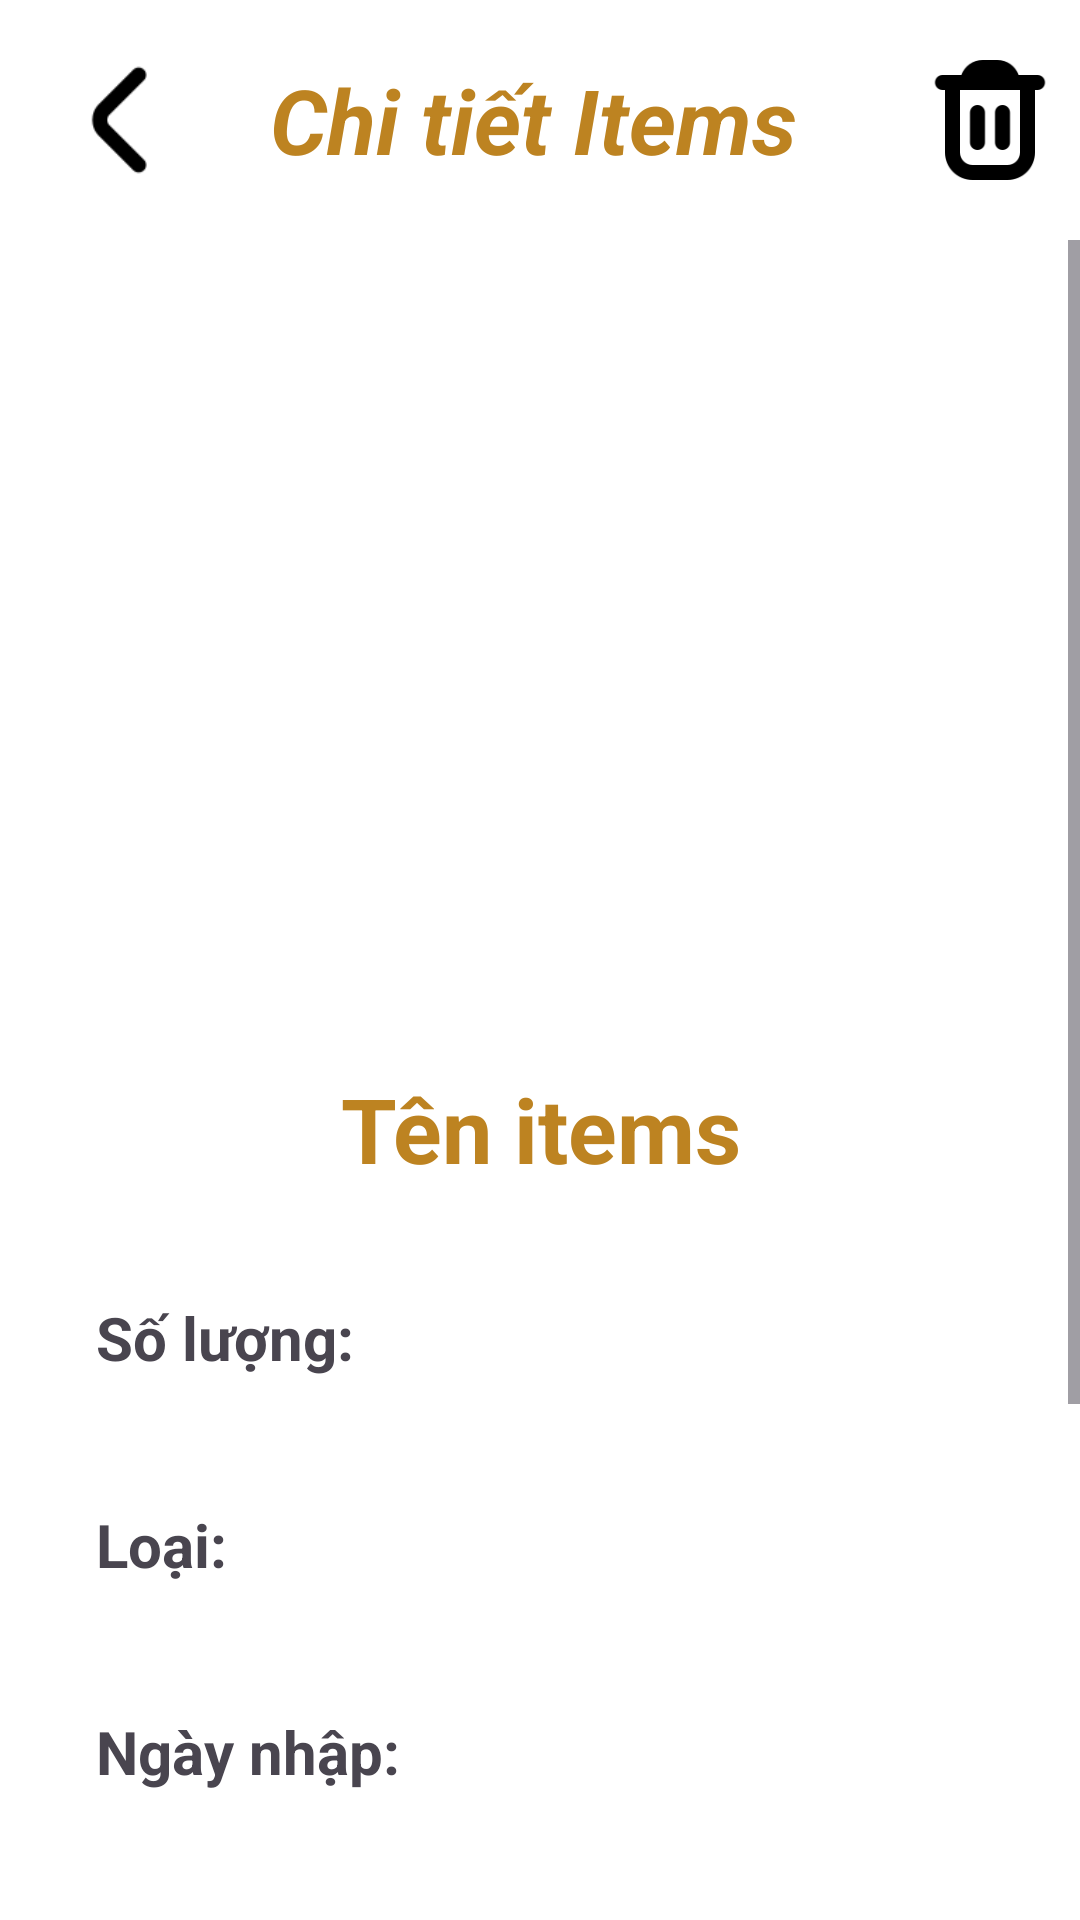

Icon click points for this 1080px×1920px phone screenshot, format [x,y]:
angle left: [119,120]
trash: [990,120]
